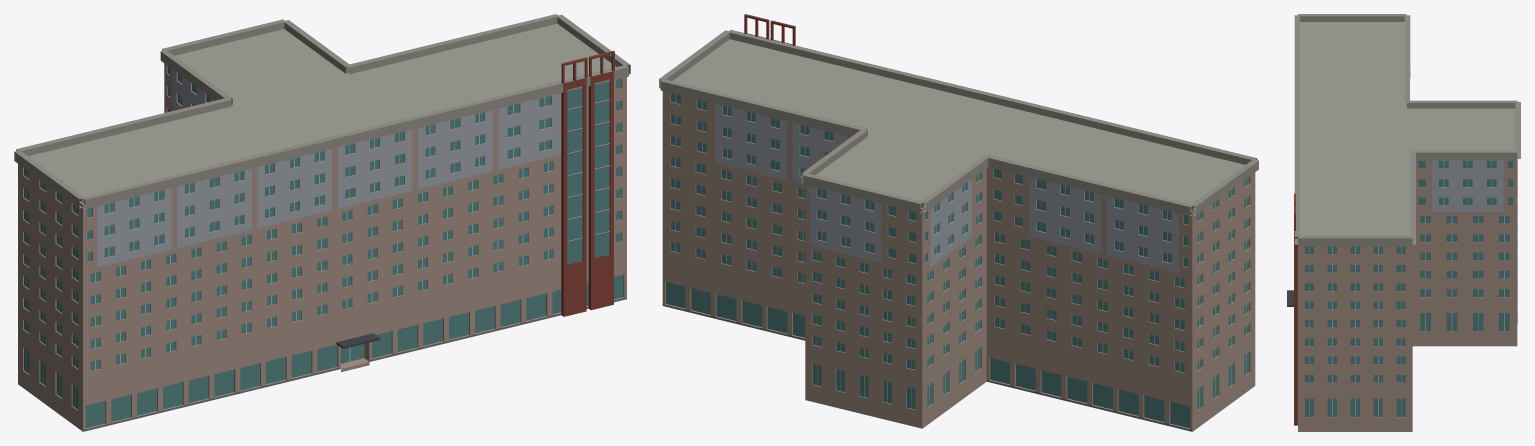
3 views of the same model, side by side, from view 1: azimuth 30°, elevation 25°; view 2: azimuth 150°, elevation 25°; view 3: azimuth 270°, elevation 25° (orthographic). The views are drawn at different scales.
Parts seen in each view (by area): view 1: facility-1436367103__wall, facility-1436367103__roof, facility-1436367103__glass, facility-1436367103__wall2, facility-1436367103__trim, facility-1436367103__brick, facility-1436367103__frame, facility-1436367103__base; view 2: facility-1436367103__wall, facility-1436367103__roof, facility-1436367103__glass, facility-1436367103__wall2, facility-1436367103__trim, facility-1436367103__frame, facility-1436367103__base, facility-1436367103__brick; view 3: facility-1436367103__wall, facility-1436367103__roof, facility-1436367103__glass, facility-1436367103__trim, facility-1436367103__wall2, facility-1436367103__brick, facility-1436367103__frame.
Boxes of the visible parts, x1,y1,x2,y2 form: facility-1436367103__wall: (18,63,626,431); facility-1436367103__roof: (21,23,621,431); facility-1436367103__glass: (24,66,623,427); facility-1436367103__wall2: (97,69,561,267); facility-1436367103__trim: (14,14,630,209); facility-1436367103__brick: (561,50,614,316); facility-1436367103__frame: (26,75,609,407); facility-1436367103__base: (83,297,626,431); facility-1436367103__wall: (662,91,1255,431); facility-1436367103__roof: (667,39,1250,431); facility-1436367103__glass: (666,93,1249,428); facility-1436367103__wall2: (715,103,1178,272); facility-1436367103__trim: (659,30,1258,216); facility-1436367103__frame: (675,94,1246,408); facility-1436367103__base: (662,304,1192,431); facility-1436367103__brick: (744,14,795,45); facility-1436367103__wall: (1298,160,1517,431); facility-1436367103__roof: (1300,22,1517,309); facility-1436367103__glass: (1305,161,1513,416); facility-1436367103__trim: (1294,14,1520,246); facility-1436367103__wall2: (1432,159,1517,211); facility-1436367103__brick: (1294,193,1297,425); facility-1436367103__frame: (1309,161,1504,416).
Bounding box in the file's own units: 76.92 × 34.14 × 33.89.
